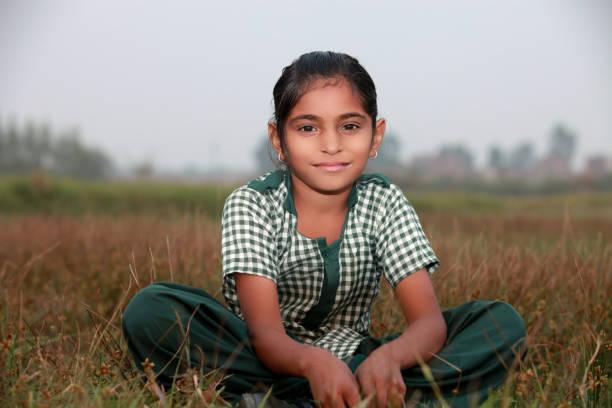Human: (159, 43, 521, 398)
